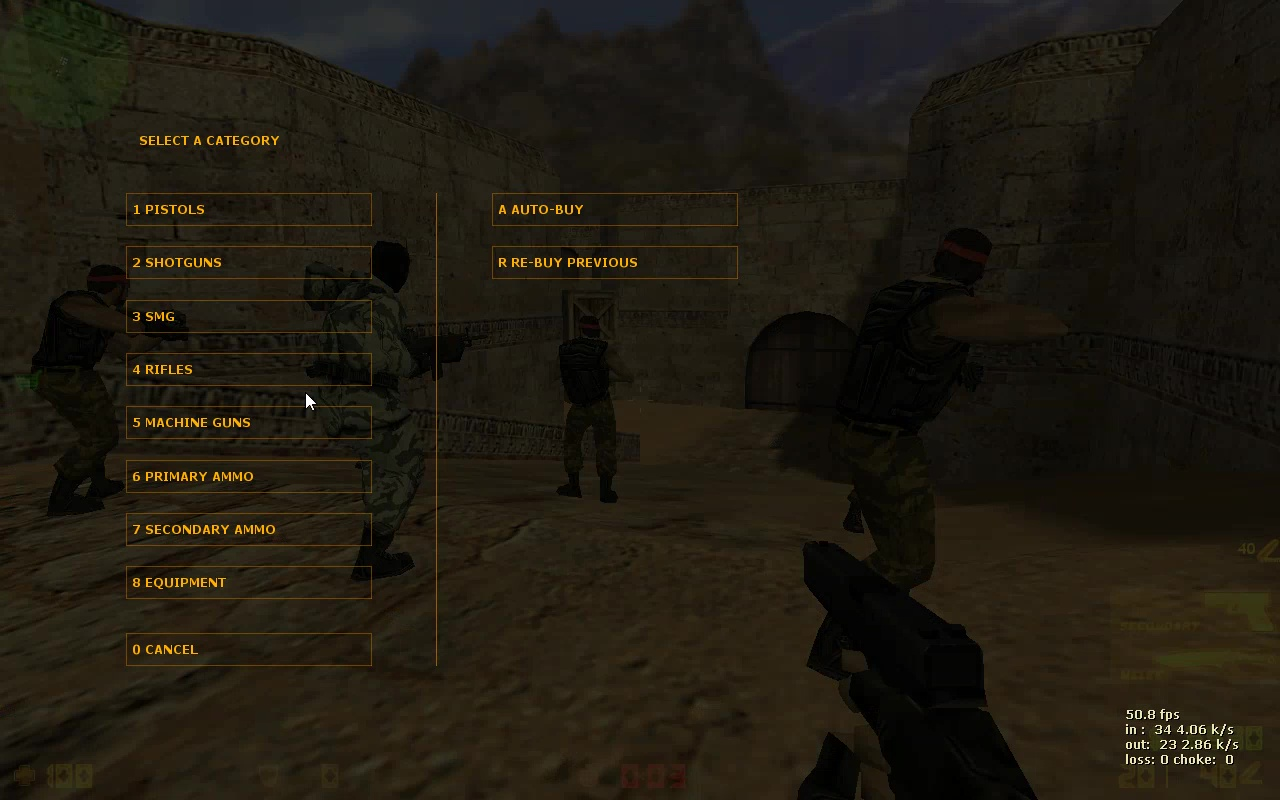terr1: (829, 226, 1067, 633), (35, 262, 185, 517), (548, 315, 636, 505)
terr2: (297, 241, 470, 585)
